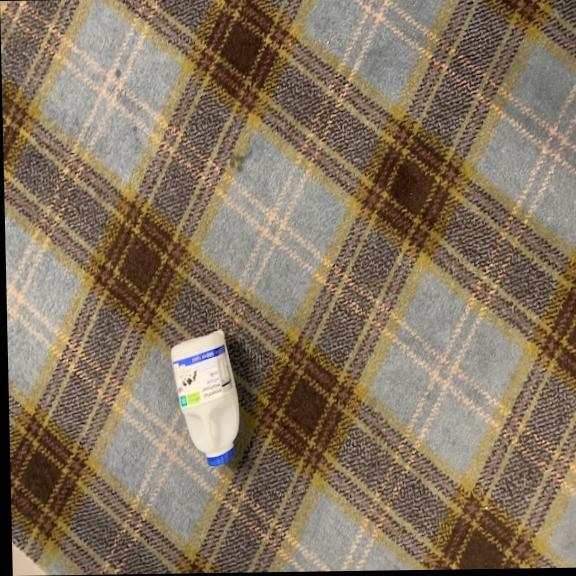Plastik: (168, 320, 247, 468)
